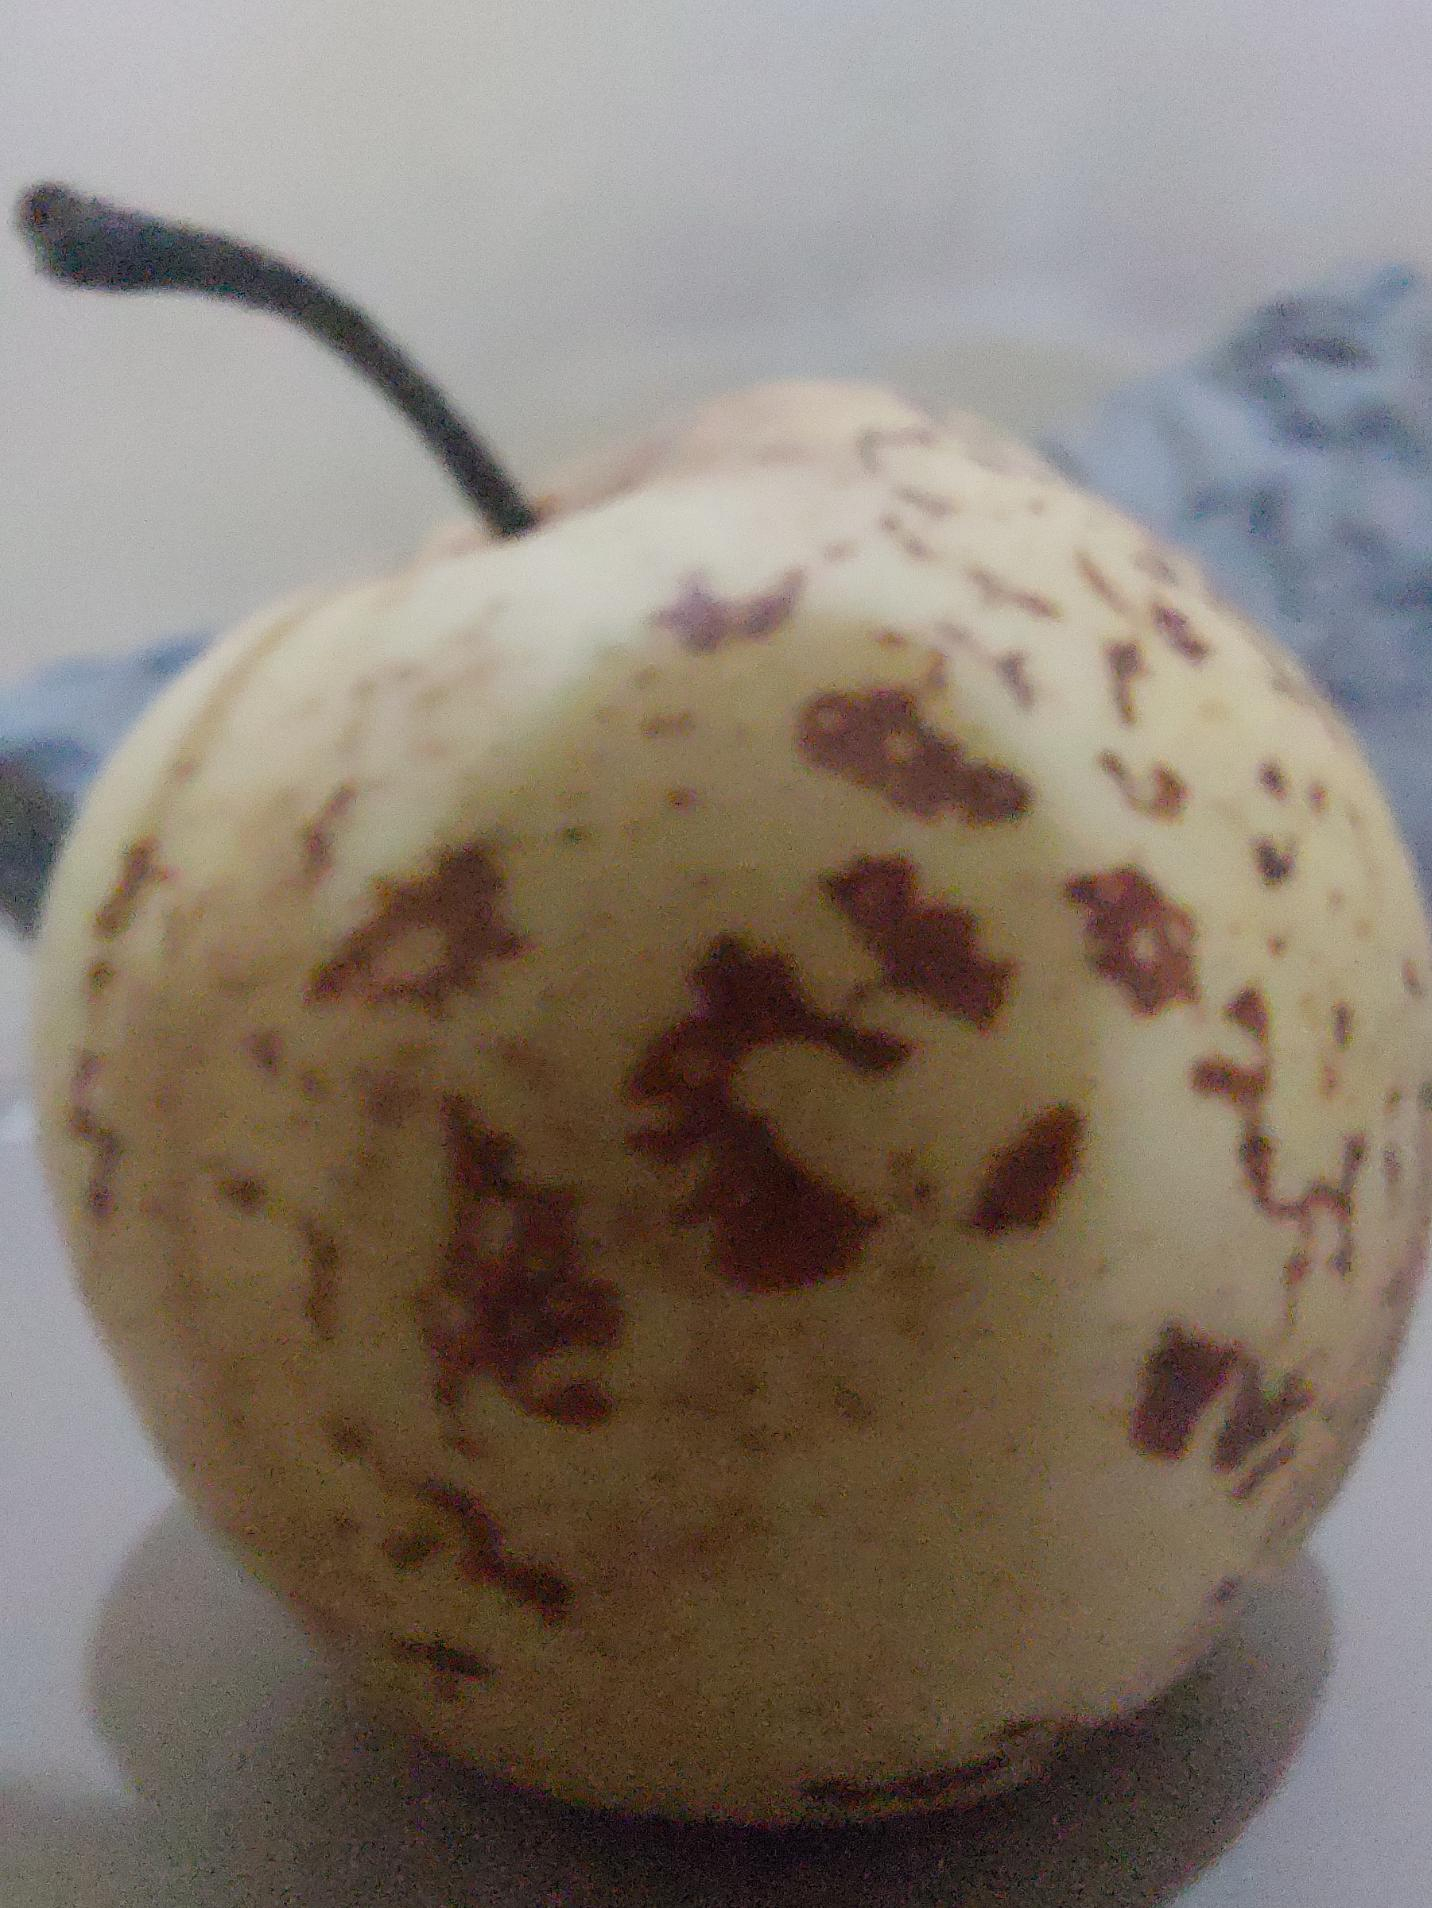Bad Pear: (30, 365, 1432, 1879)
